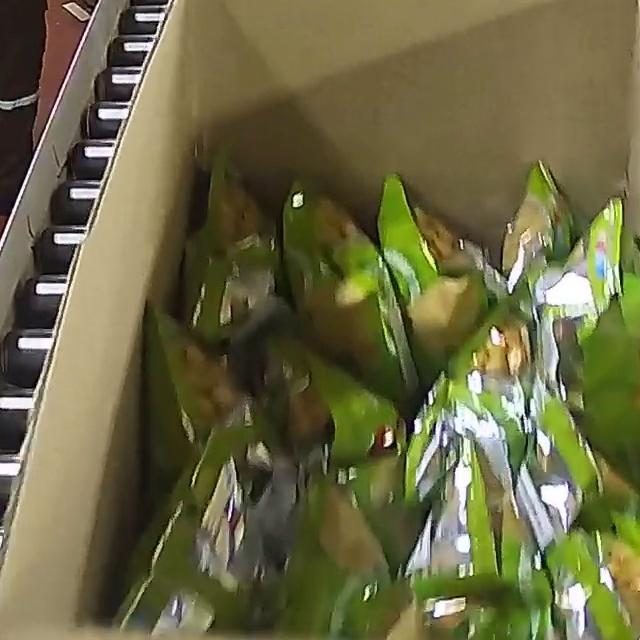yogurt: (110, 145, 640, 640)
